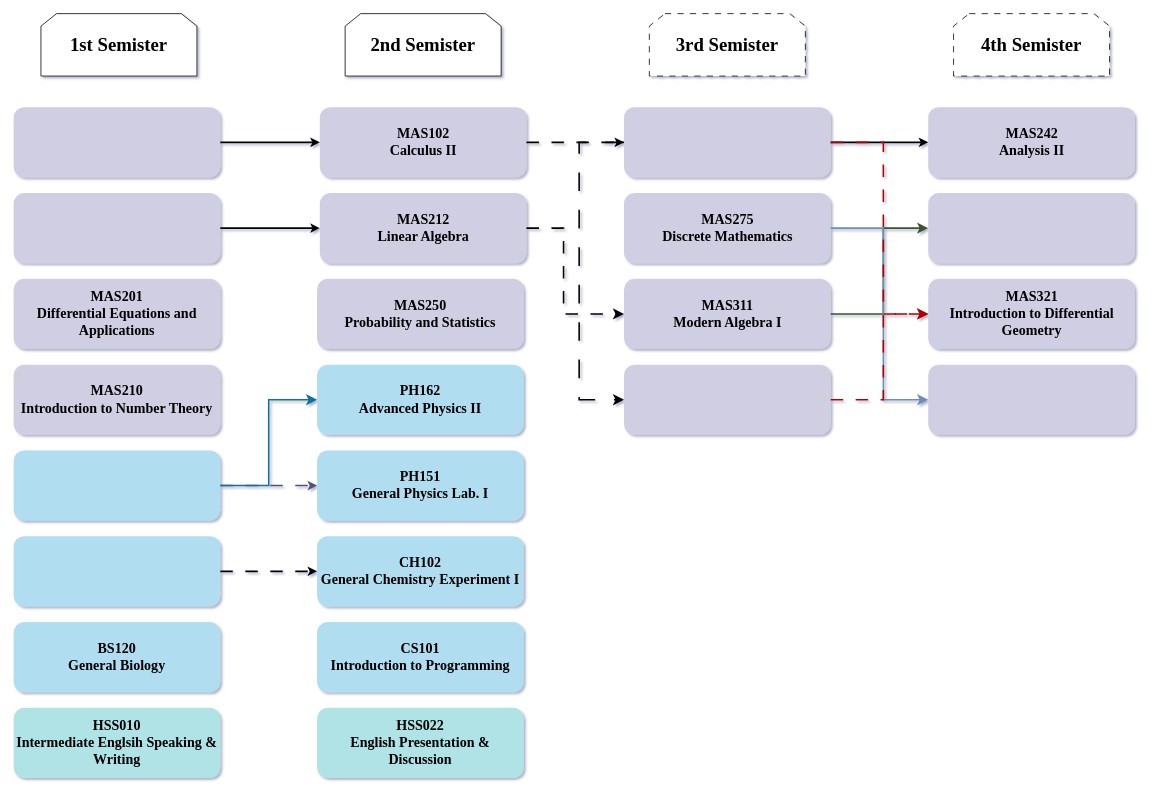
Image size: 1153x798. Some labels were removed from this diagram. Each missing label, with the centre of its shape:
"CH101 General Chemistry" goes at (x=116, y=571).
"MAS101 Calculus I" goes at (x=116, y=142).
"MAS109 Introduction to Linear Algebra" goes at (x=116, y=228).
"MAS241 Analysis I" goes at (x=727, y=142).
"MAS312 Modern Algebra II" goes at (x=1031, y=228).
"MAS331 Topology" goes at (x=727, y=399).
"MAS477 Introduction to Graph Theory" goes at (x=1031, y=399).
"PH141 General Physics I" goes at (x=116, y=485).
